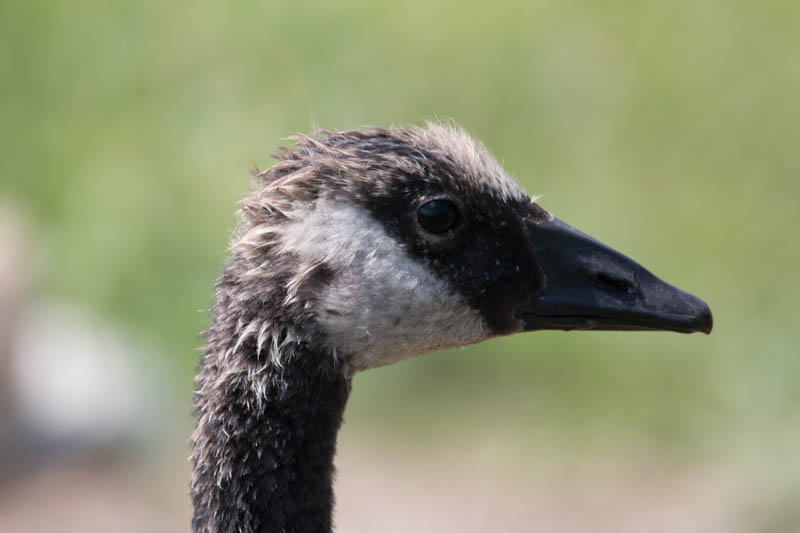goose-head: (195, 108, 713, 375)
